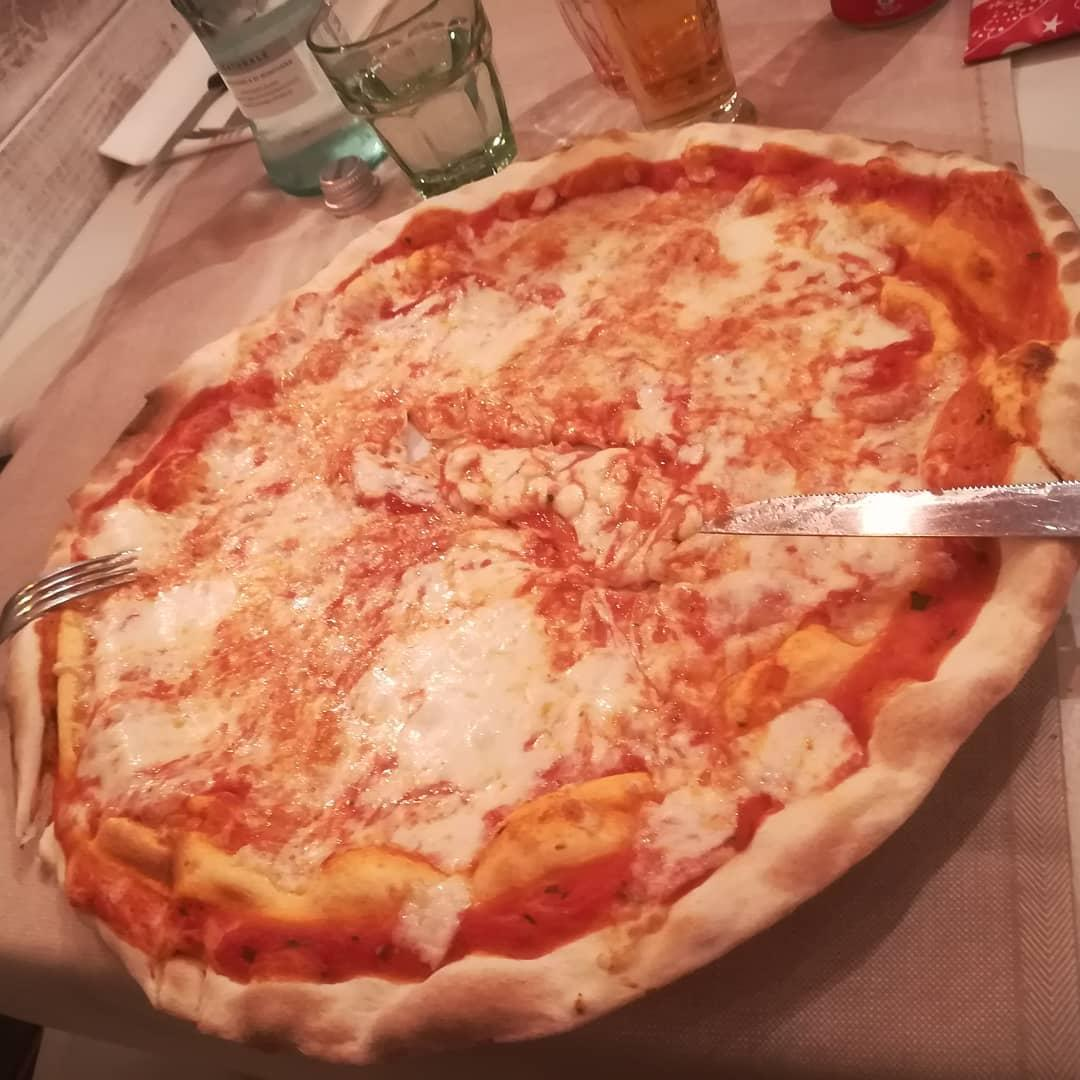Pizza: (6, 130, 1080, 1061)
